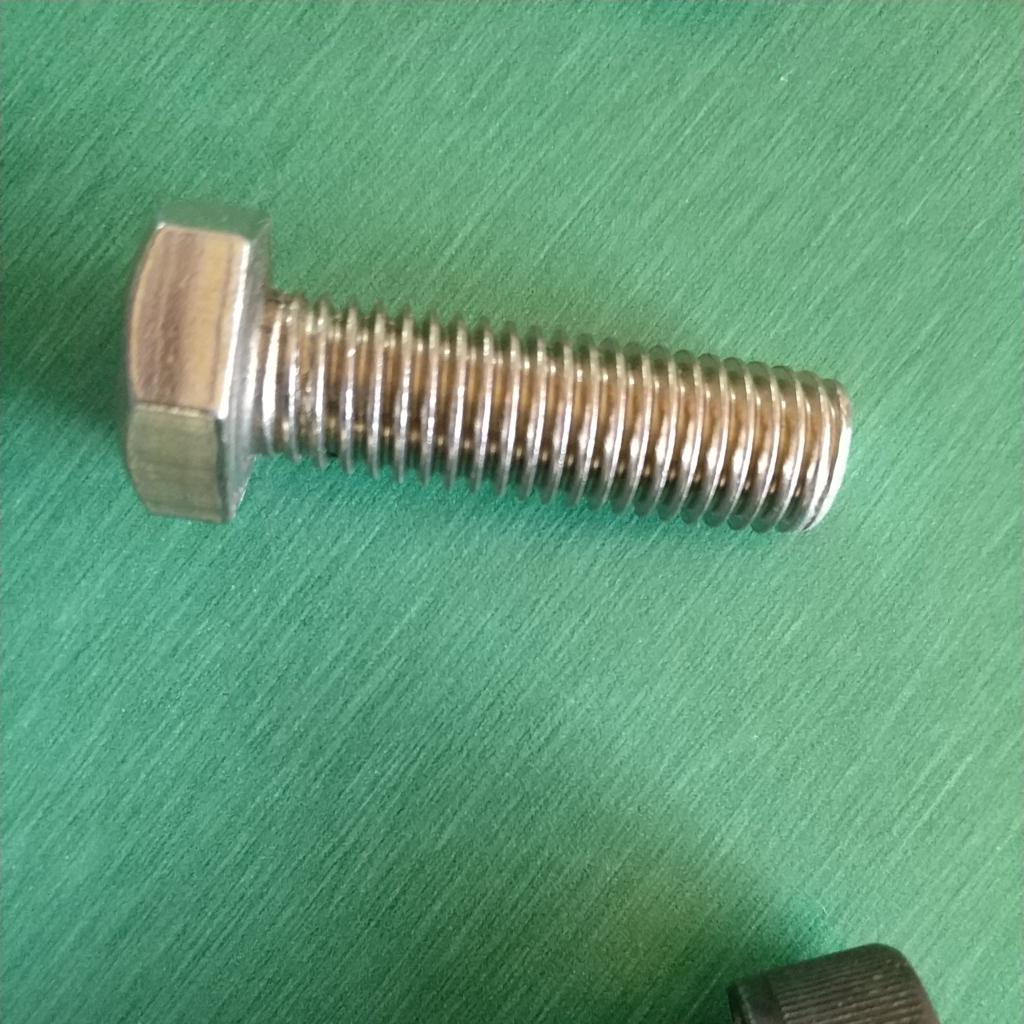screwtype1black: (727, 940, 953, 1024)
screwtype2silver: (109, 199, 857, 563)
